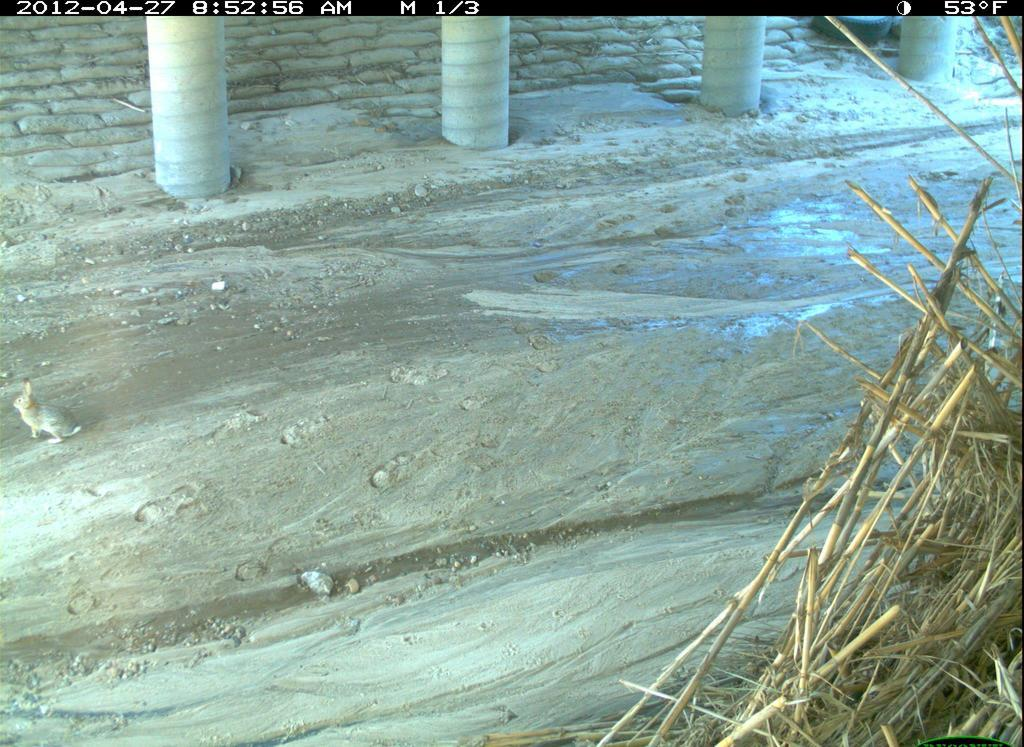rabbit: (8, 372, 86, 450)
